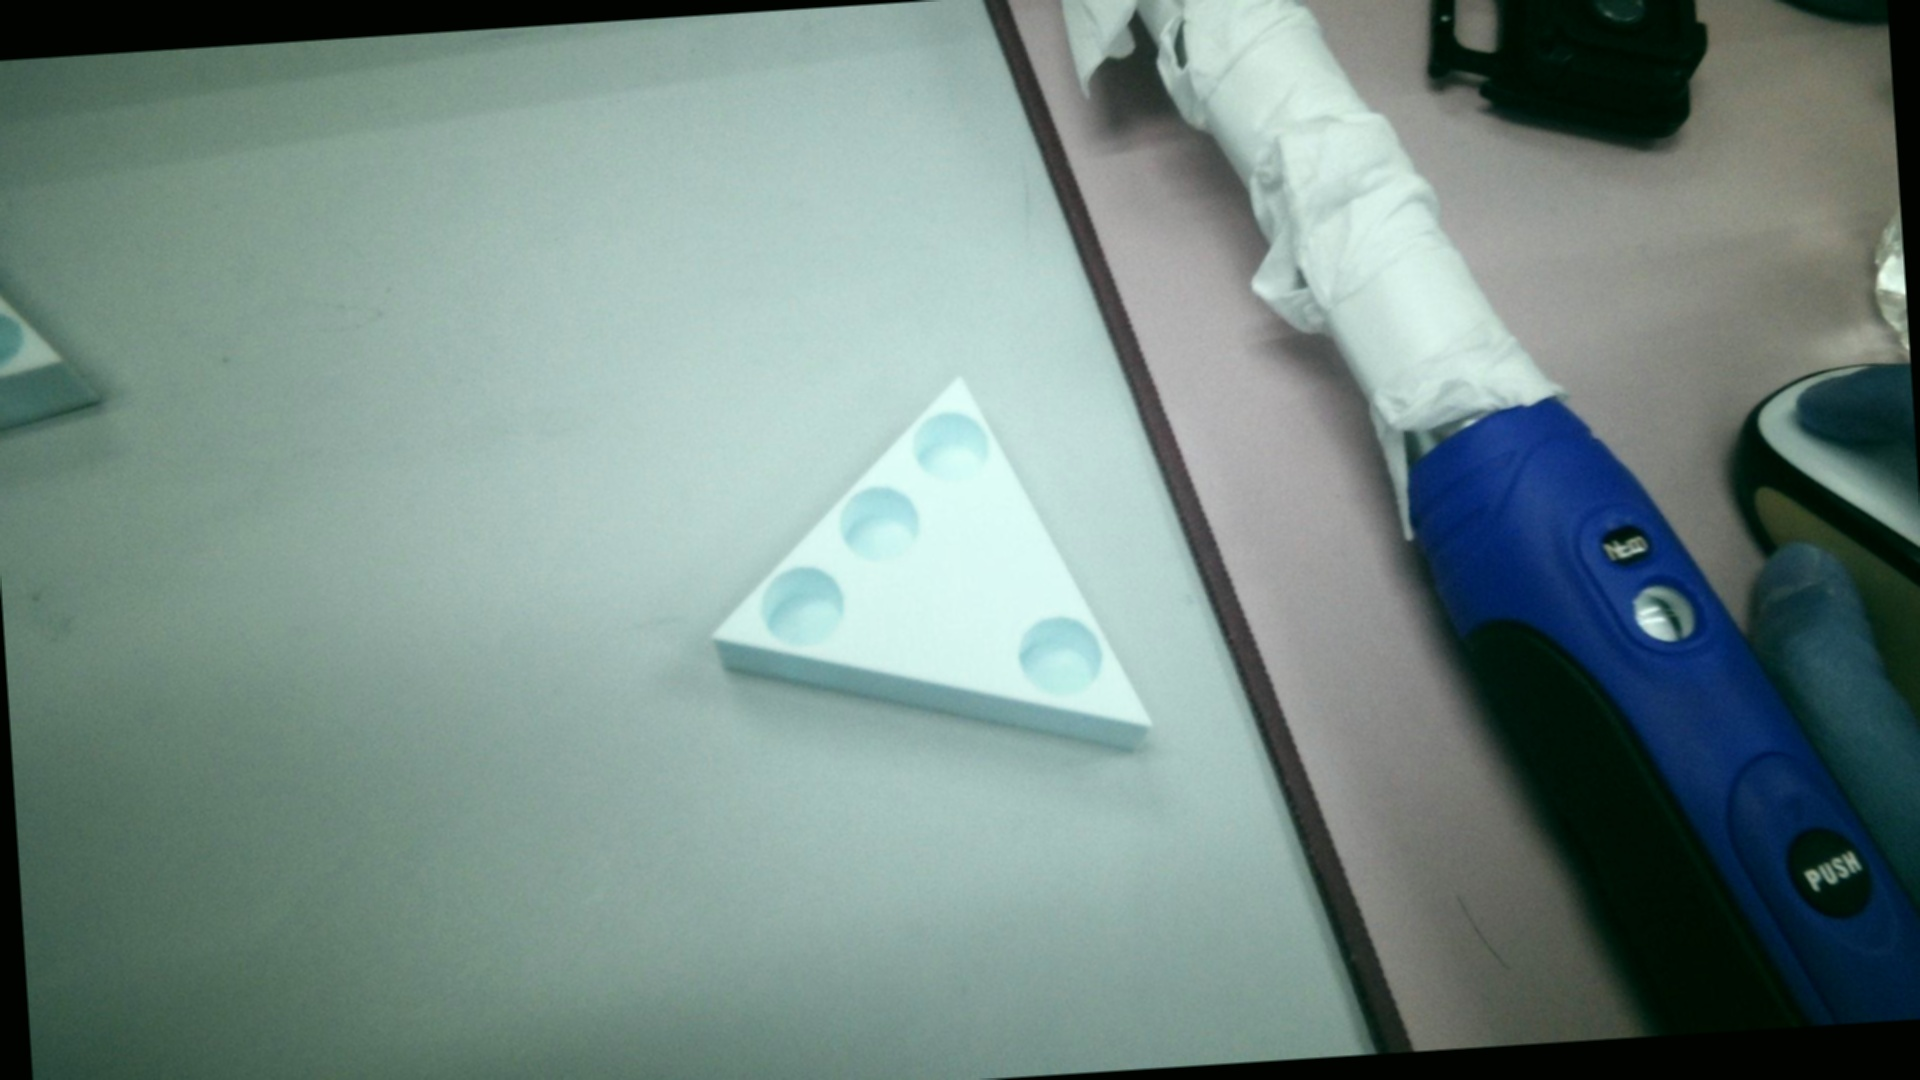hole: (1011, 605, 1112, 713), (752, 566, 847, 659), (833, 487, 920, 571), (909, 407, 996, 491)
obj: (680, 353, 1164, 807)
